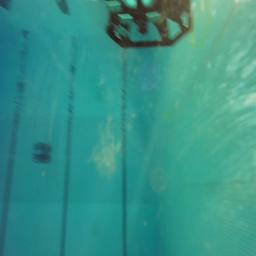Side: (105, 0, 193, 49)
